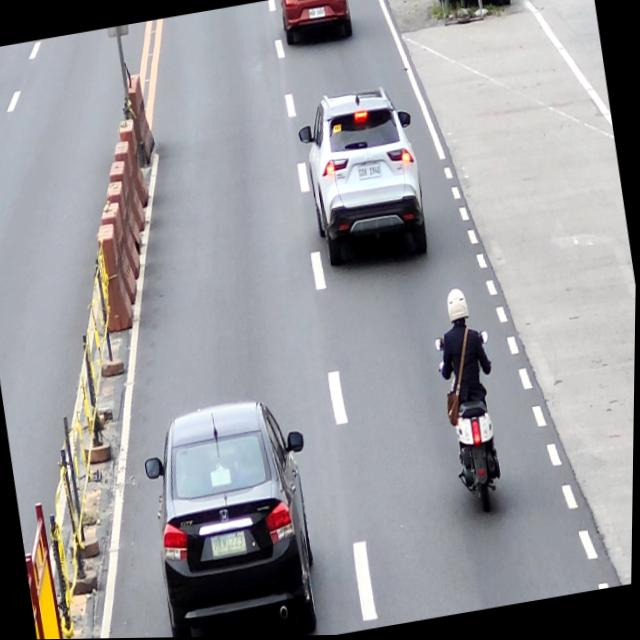Car: (137, 392, 334, 638), (291, 82, 434, 275), (276, 0, 355, 54)
License-Plate: (209, 531, 251, 560), (356, 162, 383, 182), (307, 6, 326, 21)
Motorcycle: (431, 328, 516, 517)
